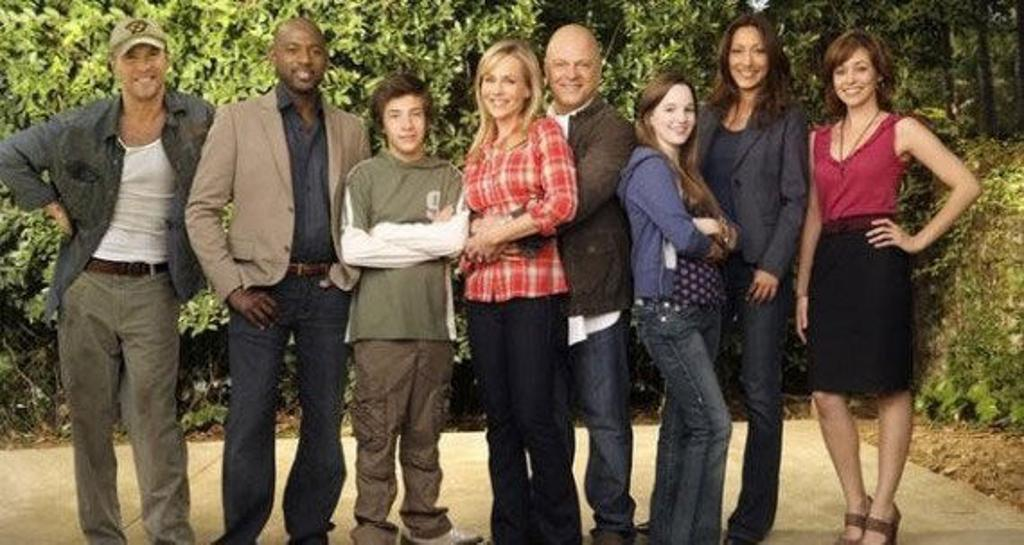face: (548, 37, 596, 102), (276, 30, 325, 89), (481, 53, 523, 116), (116, 41, 163, 97), (727, 26, 768, 88), (654, 86, 697, 144), (832, 47, 876, 103), (384, 93, 426, 151)
